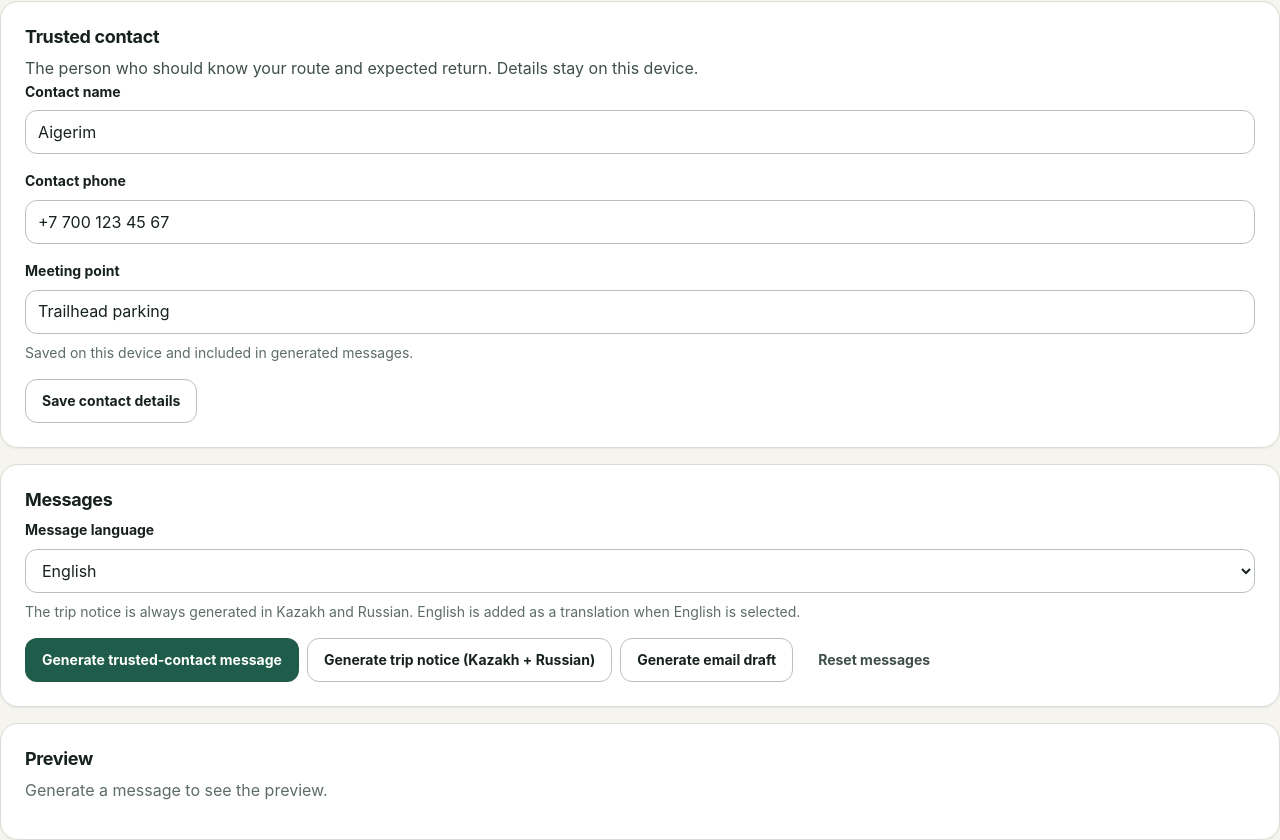
it: SharePage › does not auto-share and copies as a fallback when native sharing is unavailable
(page scrolled)
Click the button "Generate trusted-contact message".
click(162, 660)  # box left=25, top=638, right=299, bottom=682
(page scrolled)
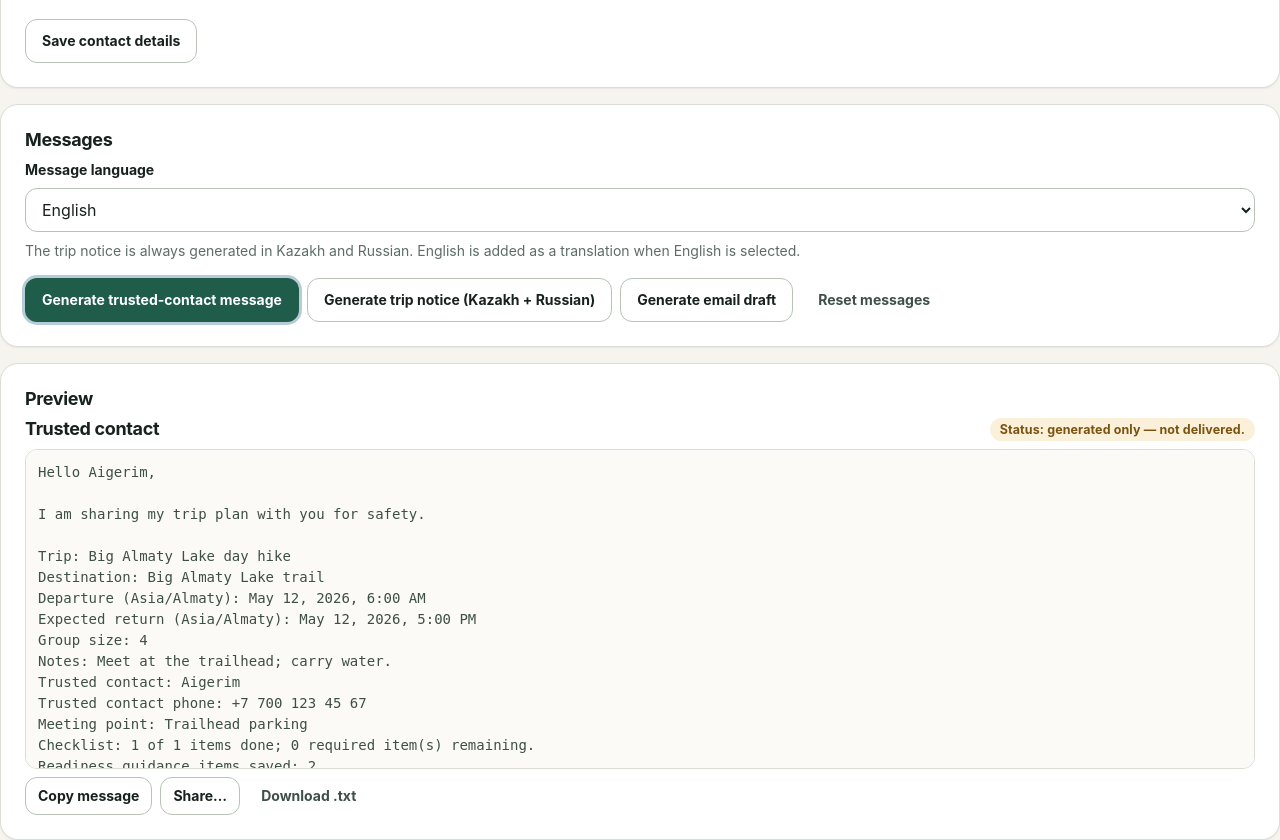
Click the button with aria-label "Share… — English".
click(200, 796)  # box left=160, top=777, right=240, bottom=815
(page scrolled)
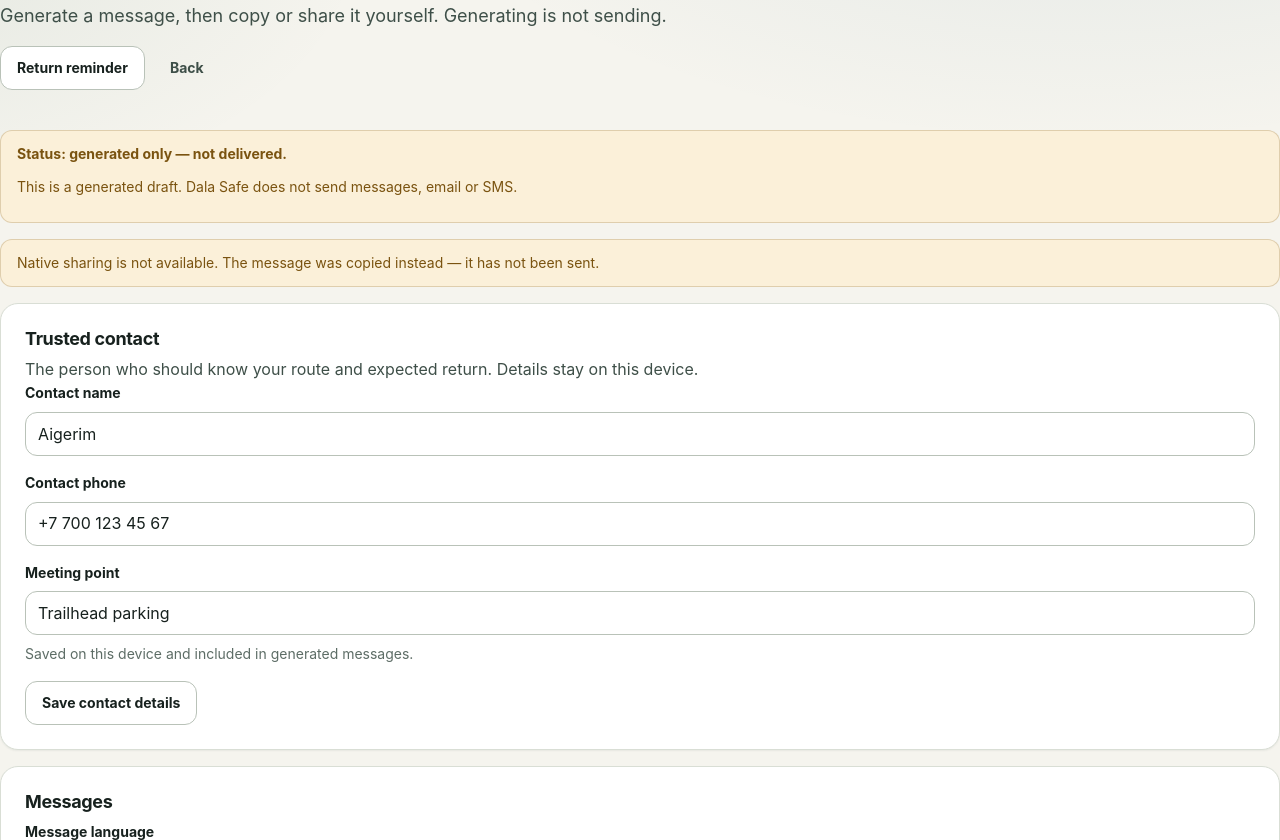
Result: the text "Native sharing is not available. The message was copied instead — it has not been sent." is shown at left=17, top=254, right=599, bottom=271
